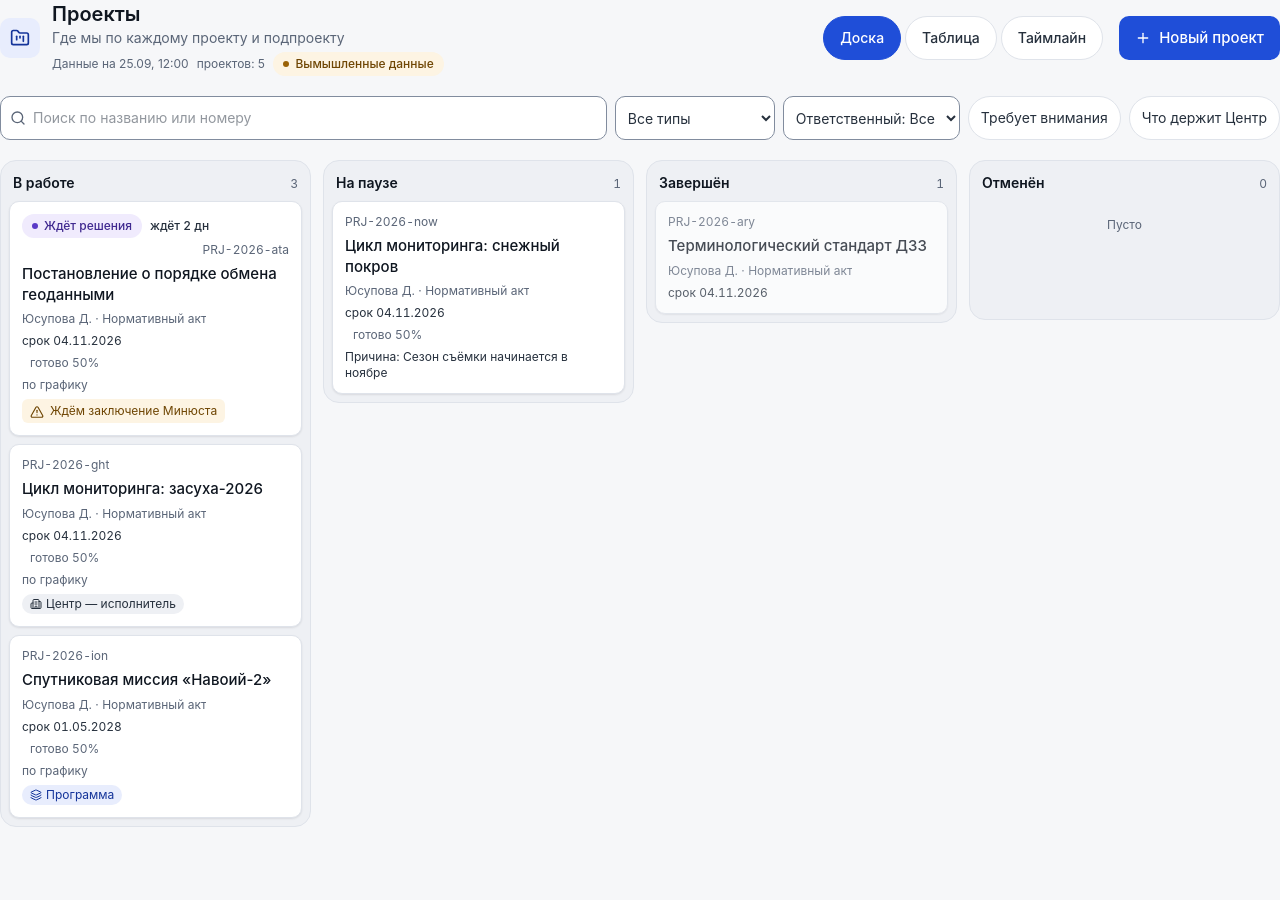
Test: Проекты › сведения — направление и регион из справочников
This screenshot has width=1280, height=900.
Click the button "Постановление о порядке". click: click(156, 319)
box: [10,202,301,435]
(page scrolled)
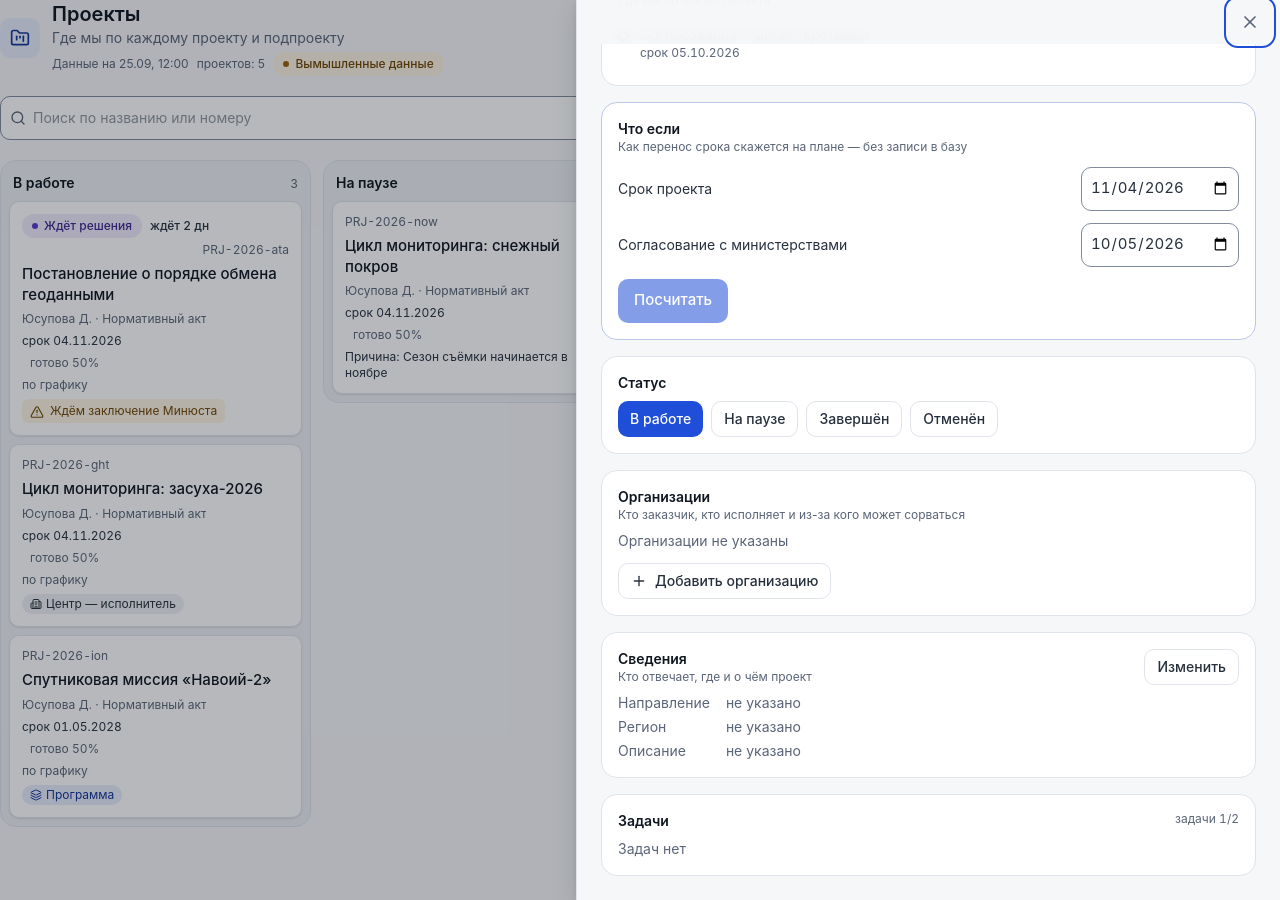
Click the button "Изменить". click: click(1192, 666)
box: [1144,648,1239,684]
(page scrolled)
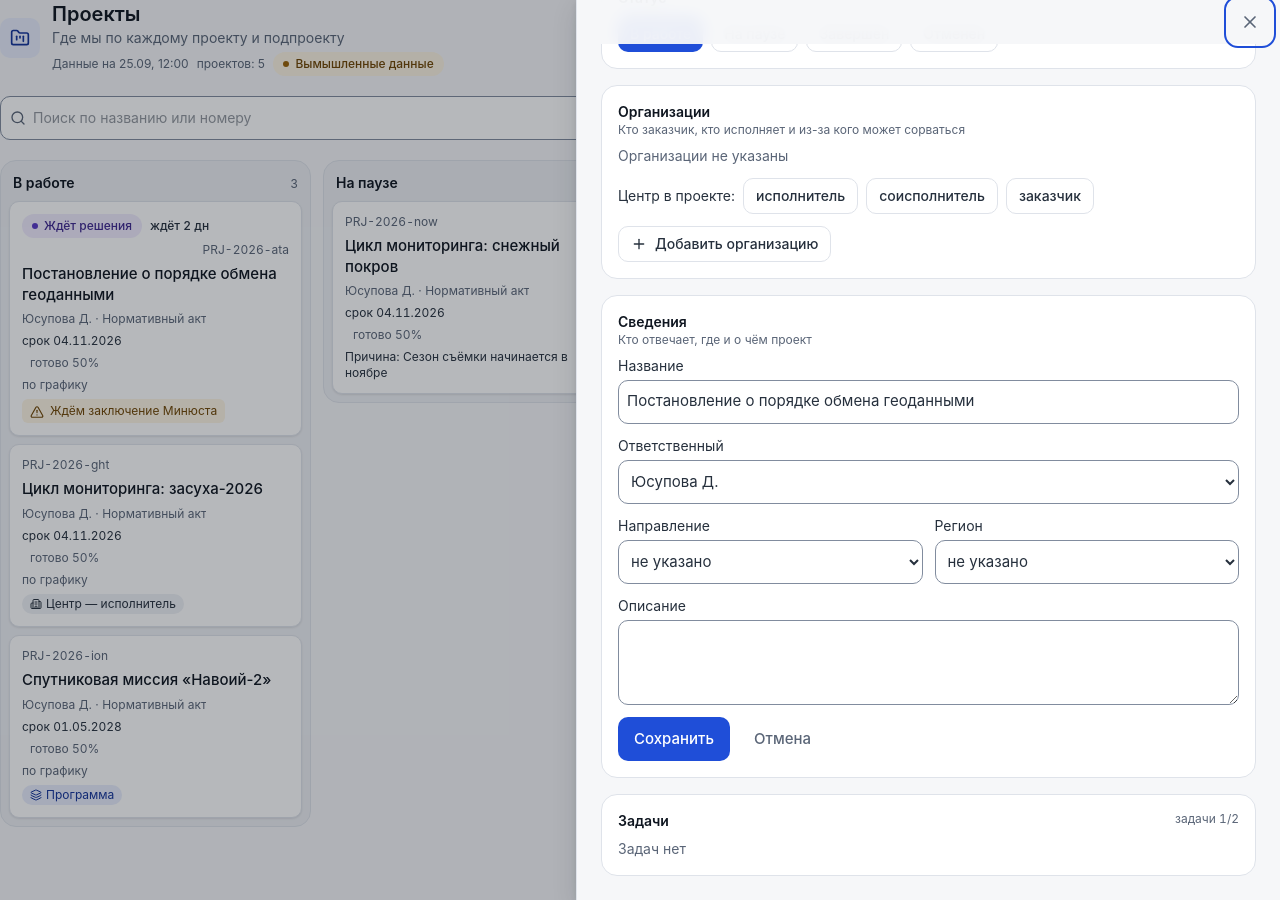
Select "Космический мониторинг" in the dropdown labelled "Направление". click: (770, 562)
box: [618,540,922,584]
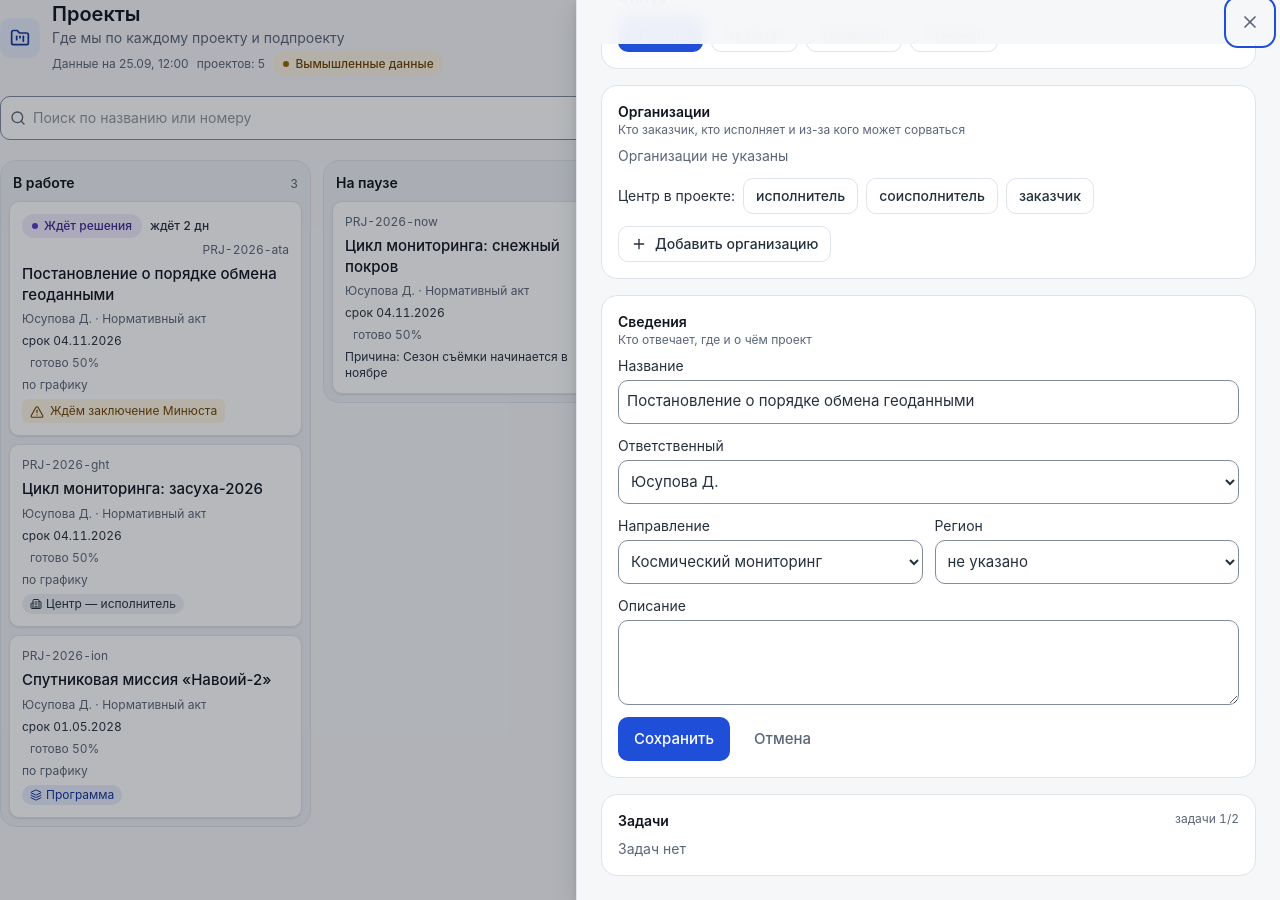
Select "город Ташкент" in the dropdown labelled "Регион". click: (1087, 562)
box: [934,540,1239,584]
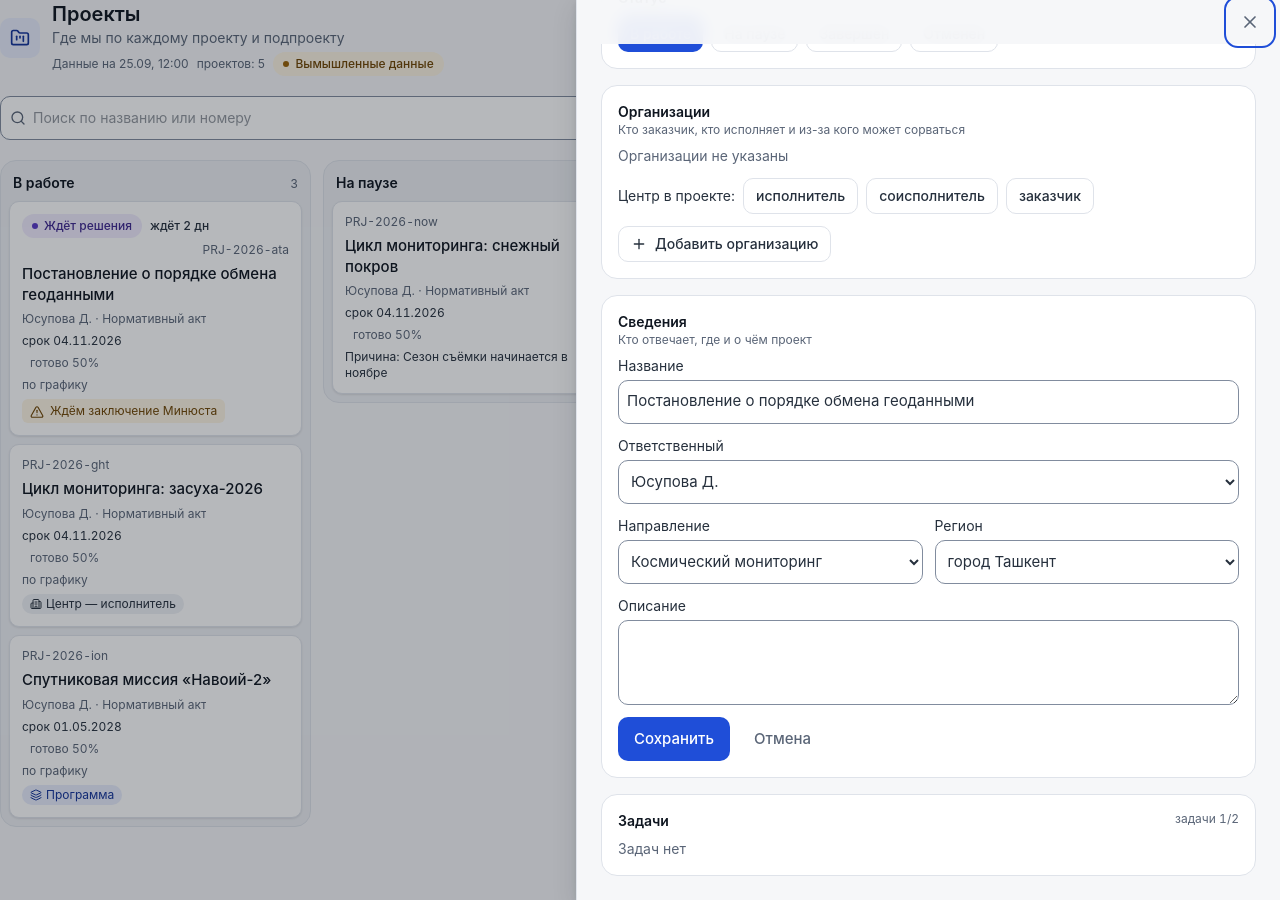
Type "Порядок обмена данными между ведомствами" into the text box labelled "Описание". click: (928, 662)
box: [618,620,1239,705]
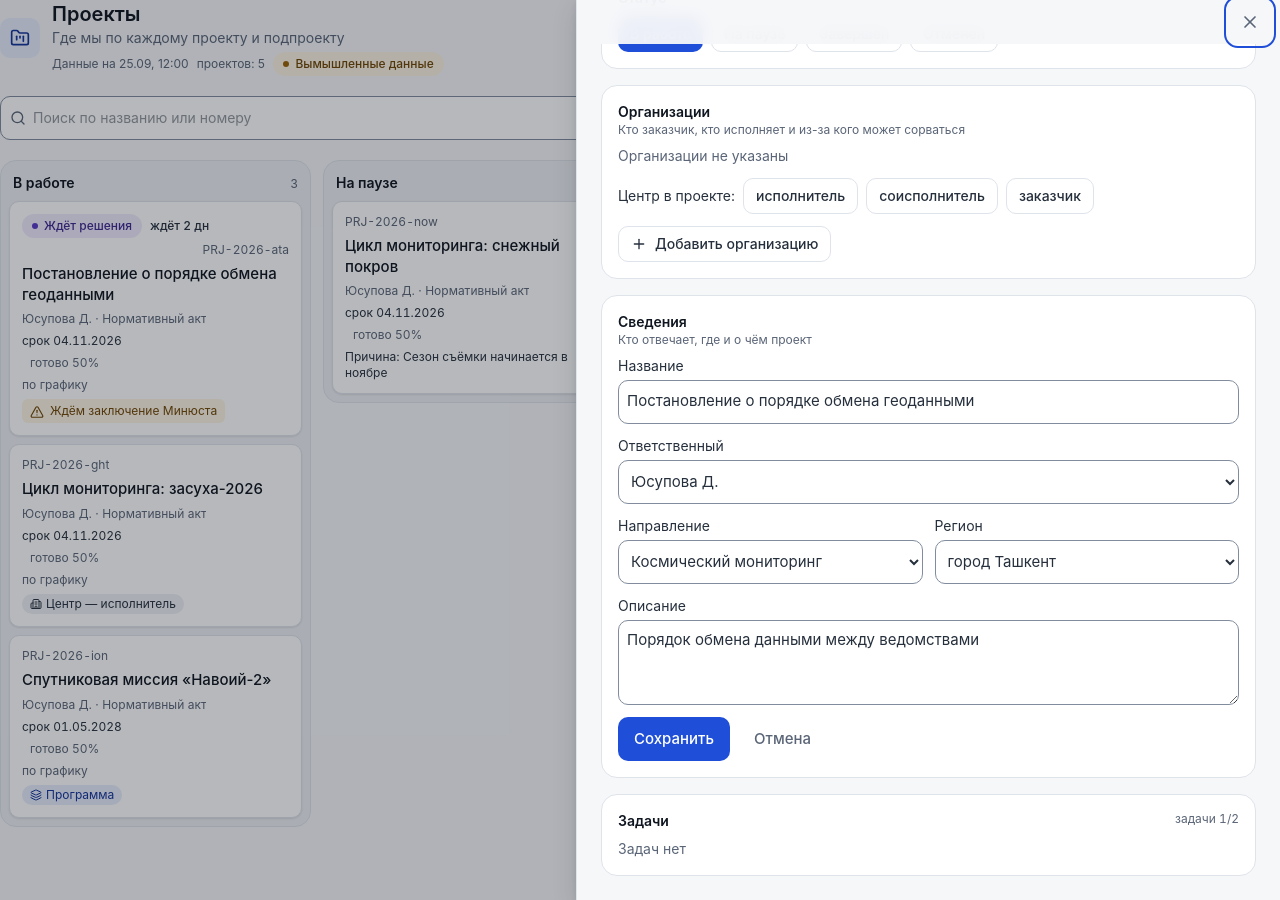
Click the button "Сохранить". click: click(674, 739)
box: [618,717,730,761]
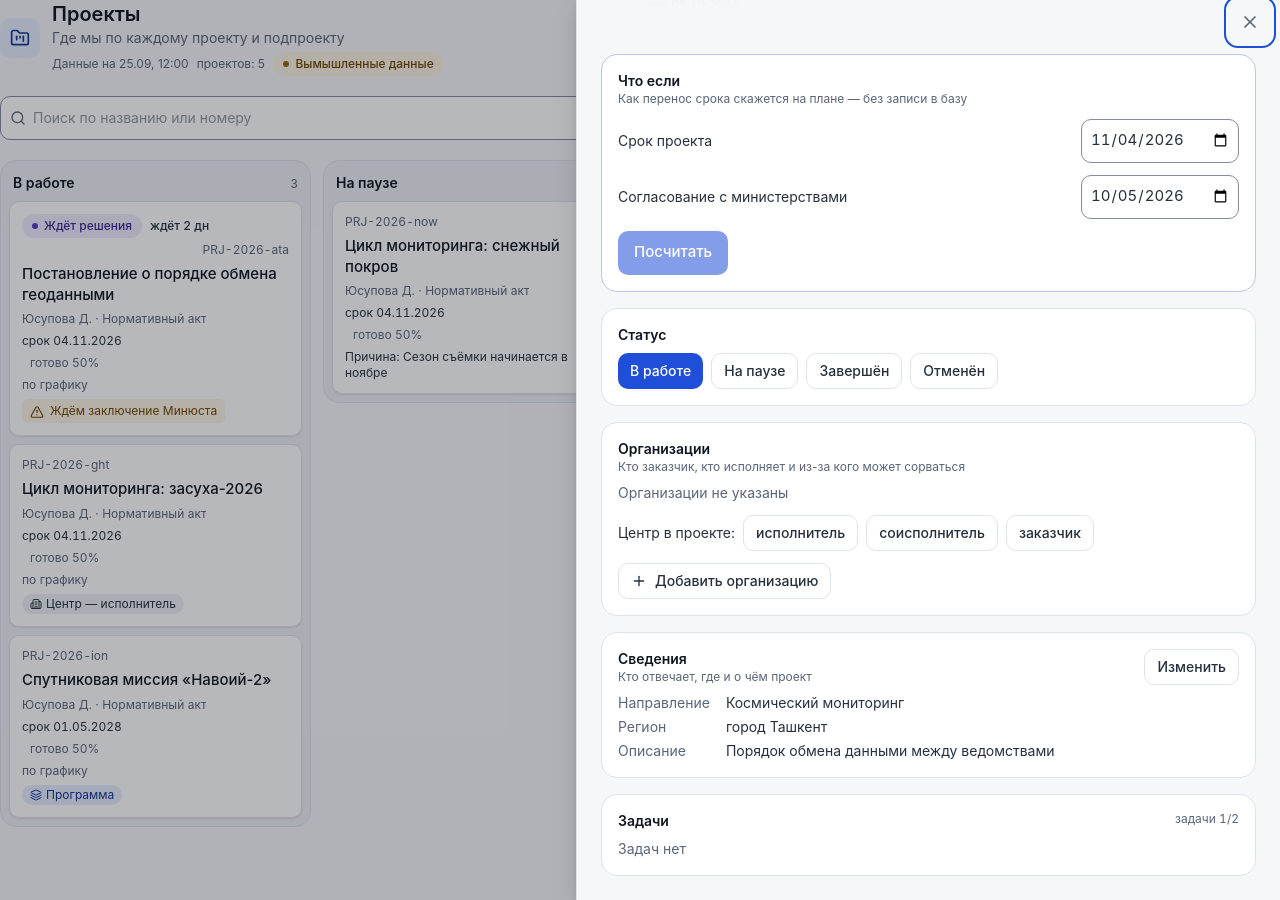
Result: the button "Сохранить" is gone
Result: the text "Космический мониторинг" is shown at [726,694,904,710]
Result: the text "город Ташкент" is shown at [726,718,827,734]
